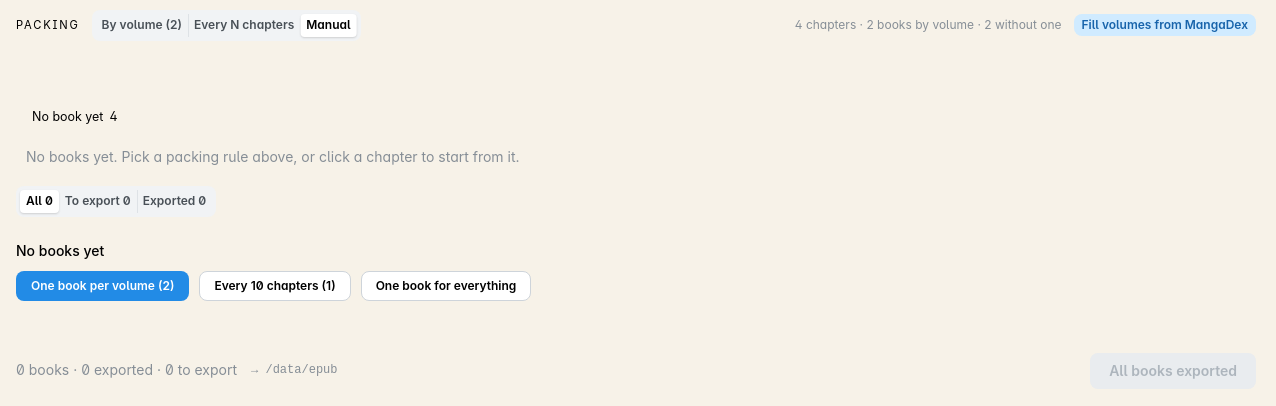
Scenario: EpubPacker volume fill › fills missing volumes and redraws from the returned overview
Expected: the text "4 chapters · 2 books by volume · 2 without one" is shown, [795,17,1062,34]
Click the button "Fill volumes from MangaDex" at (1165, 25), box [1074,14,1256,36]
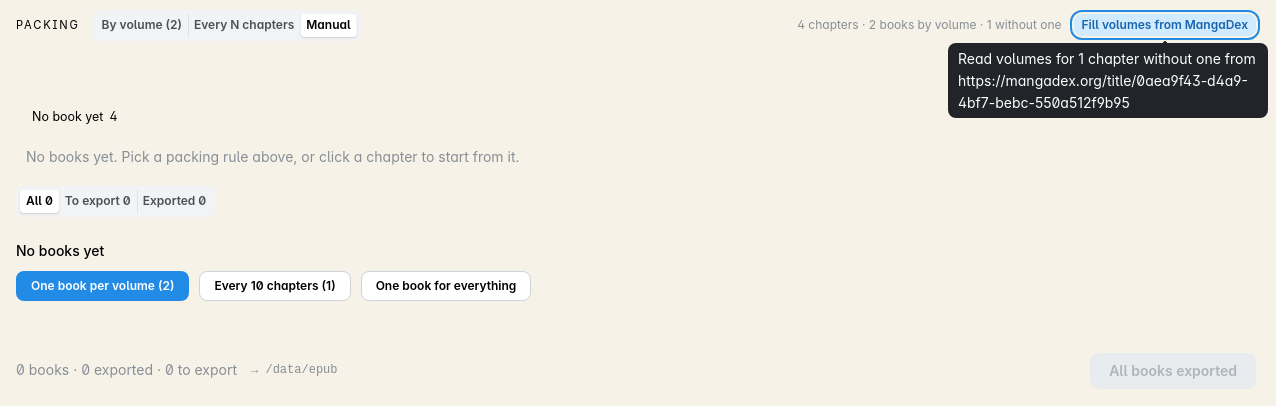
Expected: the text "4 chapters · 2 books by volume · 1 without one" is shown, [797,17,1062,34]
